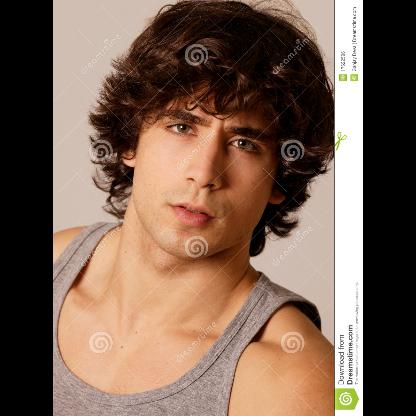Male: (122, 85, 290, 259)
